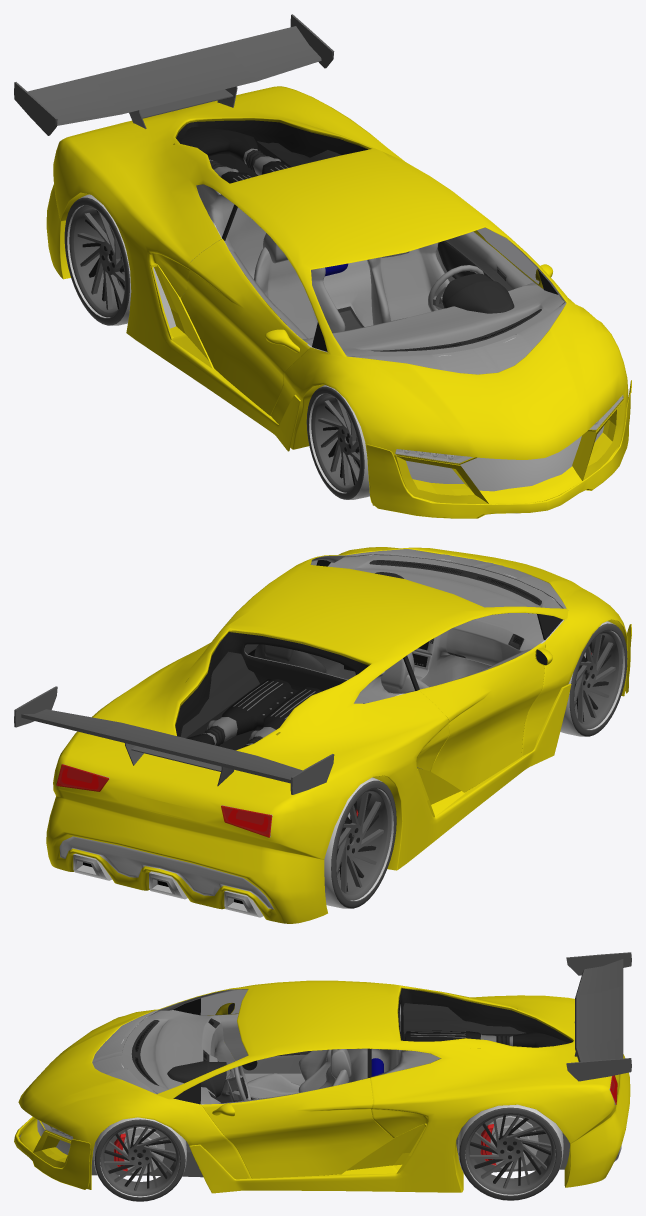
Rendered from car1_interior.fbx.
The picture shows the model from 3 angles, top to bottom: view 1: azimuth 30°, elevation 25°; view 2: azimuth 150°, elevation 25°; view 3: azimuth 270°, elevation 25°; orthographic projection. The views are drawn at different scales.
Parts seen in each view (by area): view 1: polySurface226, pPlane30, polySurface237, car1_wing_pPlane8, polySurface242, pPlane31, pPlane35, polySurface247, pCube214, pCube223, pPlane34, pPlane32 (+15 smaller); view 2: polySurface226, polySurface237, pPlane31, polySurface242, car1_wing_pPlane8, polySurface247, pPlane30, pCube205, pCube274, pPipe20, pPipe15, pCylinder86 (+14 smaller); view 3: polySurface226, polySurface244, polySurface237, pPlane30, car1_wing_pPlane8, pPlane31, polySurface106, pPipe21, pCube62, pCube275, pCube223, pPipe18 (+18 smaller).
Boxes of the visible parts, box(x1,y1,x2,y2) form: polySurface226: box(46, 86, 628, 505); pPlane30: box(311, 227, 564, 355); polySurface237: box(176, 120, 565, 356); car1_wing_pPlane8: box(14, 14, 334, 135); polySurface242: box(180, 239, 310, 415); pPlane31: box(173, 118, 368, 182); pPlane35: box(366, 380, 631, 518); polySurface247: box(224, 207, 317, 345); pCube214: box(367, 243, 449, 324); pCube223: box(254, 233, 345, 338); pPlane34: box(406, 425, 604, 491); pPlane32: box(347, 302, 566, 374); polySurface226: box(46, 547, 627, 923); polySurface237: box(175, 554, 565, 769); pPlane31: box(175, 631, 369, 749); polySurface242: box(418, 641, 552, 792); car1_wing_pPlane8: box(14, 686, 334, 794); polySurface247: box(407, 613, 543, 688); pPlane30: box(311, 555, 563, 608); pCube205: box(187, 679, 321, 747); pCube274: box(180, 652, 259, 738); pPipe20: box(324, 777, 396, 908); pPipe15: box(337, 788, 391, 900); pCylinder86: box(336, 791, 383, 893); polySurface226: box(18, 980, 630, 1193); polySurface244: box(201, 1078, 393, 1178); polySurface237: box(121, 988, 572, 1104); pPlane30: box(122, 989, 247, 1093); car1_wing_pPlane8: box(566, 952, 631, 1081); pPlane31: box(398, 988, 572, 1047); polySurface106: box(201, 1049, 367, 1103); pPipe21: box(457, 1104, 563, 1200); pCube62: box(19, 1115, 569, 1177); pCube275: box(403, 1003, 525, 1036); pCube223: box(247, 1049, 331, 1098); pPipe18: box(93, 1117, 186, 1201).
Size of the model in its own units: 4.23 by 2.67 by 10.15.
